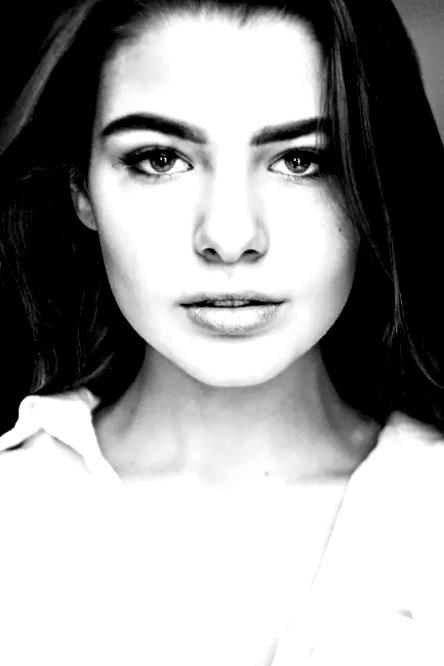face: (88, 20, 361, 394)
